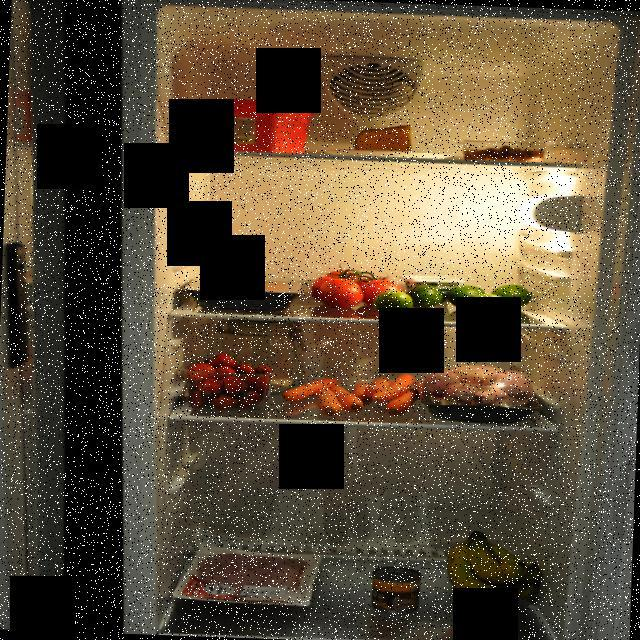Carne cerdo: (196, 547, 310, 604)
Carne pollo: (414, 359, 544, 425)
Carne vacuno: (184, 272, 300, 314)
Gambas/Langostinos: (462, 143, 548, 162)
Mantequilla: (188, 91, 317, 156)
Plátano: (443, 524, 550, 609)
Queso: (348, 120, 421, 154)
Tomate: (307, 261, 407, 313)
Zanahoria: (280, 367, 422, 419)
